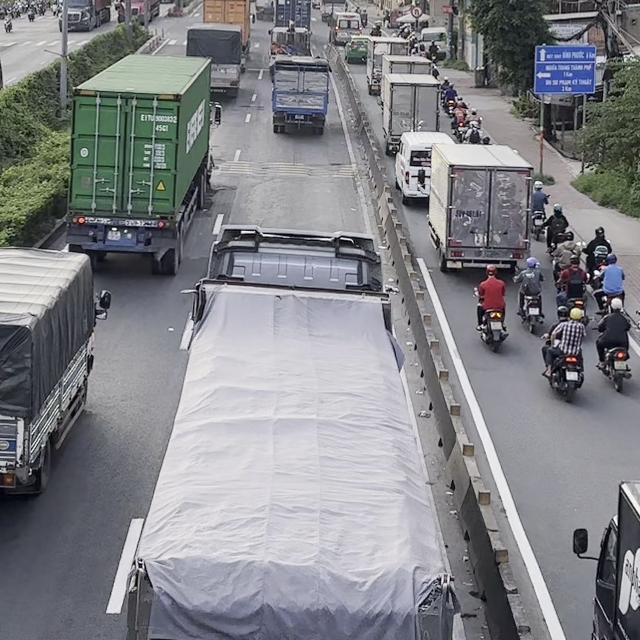car: (394, 130, 456, 204), (328, 11, 363, 46), (344, 35, 372, 63)
motorcycle: (540, 331, 584, 403), (592, 325, 635, 392), (472, 286, 509, 352), (512, 272, 544, 334), (568, 273, 590, 326), (530, 210, 546, 240)
truck: (121, 224, 462, 640), (63, 52, 224, 275), (0, 245, 111, 497), (426, 143, 534, 273), (572, 479, 639, 639), (381, 73, 441, 156), (270, 55, 332, 135), (185, 23, 246, 98), (202, 0, 256, 71), (365, 36, 409, 95), (268, 20, 312, 56), (273, 0, 311, 30)
